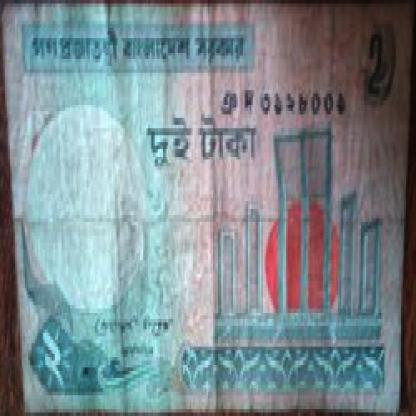two taka: (32, 315, 76, 398), (366, 31, 396, 135)
